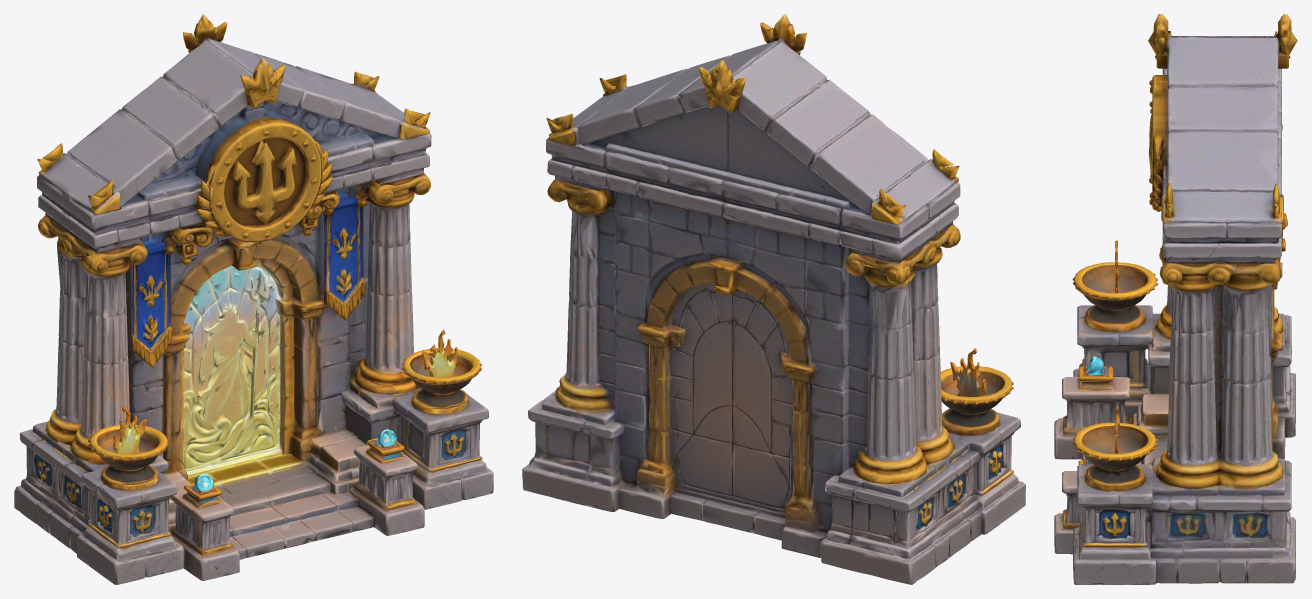
Rendered from gate_ithaca.glb.
3 renders of one model, left to right at view 1: azimuth 30°, elevation 25°; view 2: azimuth 150°, elevation 25°; view 3: azimuth 270°, elevation 25°, orthographic. The views are drawn at different scales.
Parts seen in each view (by area): view 1: tripo_part_1, tripo_part_0, tripo_part_2, tripo_part_6, tripo_part_4, tripo_part_8, tripo_part_3, tripo_part_11, tripo_part_5, tripo_part_14, tripo_part_7, tripo_part_15 (+4 smaller); view 2: tripo_part_0, tripo_part_1, tripo_part_9, tripo_part_2, tripo_part_13, tripo_part_7, tripo_part_4, tripo_part_17; view 3: tripo_part_1, tripo_part_0, tripo_part_3, tripo_part_5, tripo_part_4, tripo_part_10, tripo_part_13, tripo_part_6, tripo_part_2, tripo_part_11, tripo_part_15.
Part boxes in pixels (x1=…): tripo_part_1: x1=37, y1=14, x2=431, y2=265; tripo_part_0: x1=125, y1=185, x2=421, y2=496; tripo_part_2: x1=36, y1=215, x2=168, y2=553; tripo_part_6: x1=195, y1=111, x2=332, y2=242; tripo_part_4: x1=76, y1=406, x2=184, y2=584; tripo_part_8: x1=182, y1=264, x2=280, y2=472; tripo_part_3: x1=391, y1=329, x2=493, y2=509; tripo_part_11: x1=168, y1=437, x2=373, y2=559; tripo_part_5: x1=355, y1=173, x2=430, y2=394; tripo_part_14: x1=192, y1=270, x2=272, y2=429; tripo_part_7: x1=38, y1=237, x2=86, y2=455; tripo_part_15: x1=351, y1=429, x2=424, y2=535; tripo_part_0: x1=522, y1=179, x2=871, y2=532; tripo_part_1: x1=546, y1=14, x2=960, y2=263; tripo_part_9: x1=673, y1=287, x2=792, y2=512; tripo_part_2: x1=845, y1=224, x2=981, y2=567; tripo_part_13: x1=781, y1=465, x2=935, y2=584; tripo_part_7: x1=854, y1=266, x2=939, y2=493; tripo_part_4: x1=940, y1=348, x2=1025, y2=534; tripo_part_17: x1=669, y1=492, x2=785, y2=540; tripo_part_1: x1=1148, y1=14, x2=1297, y2=264; tripo_part_0: x1=1148, y1=213, x2=1295, y2=583; tripo_part_3: x1=1073, y1=406, x2=1158, y2=584; tripo_part_5: x1=1156, y1=245, x2=1232, y2=489; tripo_part_4: x1=1072, y1=240, x2=1158, y2=418; tripo_part_10: x1=1054, y1=356, x2=1132, y2=459; tripo_part_13: x1=1272, y1=313, x2=1295, y2=459; tripo_part_6: x1=1148, y1=75, x2=1167, y2=211; tripo_part_2: x1=1148, y1=124, x2=1282, y2=393; tripo_part_11: x1=1081, y1=393, x2=1168, y2=522; tripo_part_15: x1=1054, y1=460, x2=1092, y2=554.
Size of the model in its own units: 11.33 by 13 by 5.94.
Materials: 20 (20 with a texture image).
